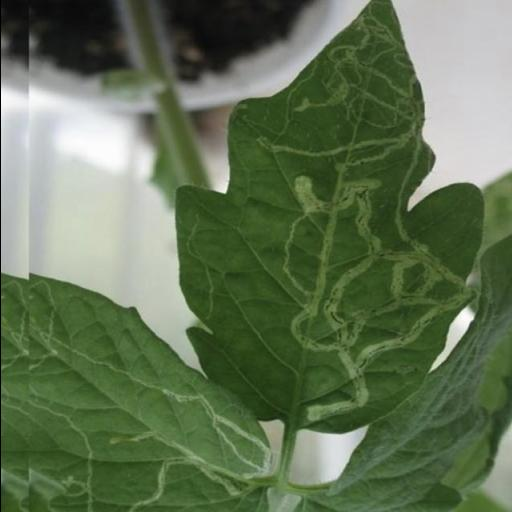Leaf Miner: (172, 0, 486, 435), (0, 275, 295, 512)
